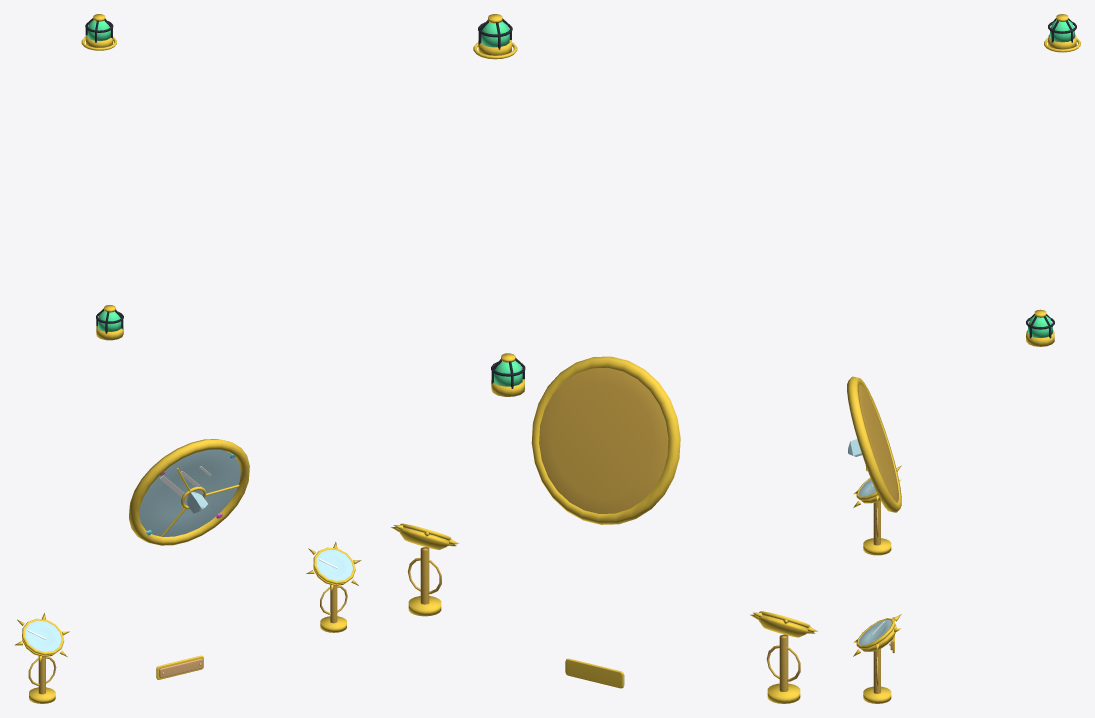
The model's file is SunMirrorTower_T5_Upgrades.fbx.
3 views of the same model, side by side, from view 1: azimuth 30°, elevation 25°; view 2: azimuth 150°, elevation 25°; view 3: azimuth 270°, elevation 25° (orthographic). The views are drawn at different scales.
Visible parts, largest first — view 1: SunMirrorTowerT5U1PolishedMirror, SunMirrorTowerT5U3Tracker2, SunMirrorTowerT5U3Tracker1, SunMirrorTowerT5U5NamePlate, SunMirrorTowerT5U2Beacon1, SunMirrorTowerT5U2Beacon2; view 2: SunMirrorTowerT5U1PolishedMirror, SunMirrorTowerT5U3Tracker1, SunMirrorTowerT5U3Tracker2, SunMirrorTowerT5U5NamePlate, SunMirrorTowerT5U2Beacon1, SunMirrorTowerT5U2Beacon2; view 3: SunMirrorTowerT5U1PolishedMirror, SunMirrorTowerT5U3Tracker2, SunMirrorTowerT5U3Tracker1, SunMirrorTowerT5U2Beacon1, SunMirrorTowerT5U2Beacon2.
Boxes of the visible parts, x1,y1,x2,y2 form: SunMirrorTowerT5U1PolishedMirror: (129,439,249,545); SunMirrorTowerT5U3Tracker2: (306,542,361,632); SunMirrorTowerT5U3Tracker1: (14,613,69,703); SunMirrorTowerT5U5NamePlate: (156,655,203,679); SunMirrorTowerT5U2Beacon1: (81,14,116,50); SunMirrorTowerT5U2Beacon2: (96,305,123,340); SunMirrorTowerT5U1PolishedMirror: (531,356,680,524); SunMirrorTowerT5U3Tracker1: (750,611,817,703); SunMirrorTowerT5U3Tracker2: (390,523,458,616); SunMirrorTowerT5U5NamePlate: (565,658,624,688); SunMirrorTowerT5U2Beacon1: (473,14,517,59); SunMirrorTowerT5U2Beacon2: (491,353,525,396); SunMirrorTowerT5U1PolishedMirror: (847,376,901,512); SunMirrorTowerT5U3Tracker2: (853,614,901,703); SunMirrorTowerT5U3Tracker1: (853,465,901,555); SunMirrorTowerT5U2Beacon1: (1044,14,1080,52); SunMirrorTowerT5U2Beacon2: (1026,309,1054,346).
Size of the model in its own units: 522 by 860 by 291.
